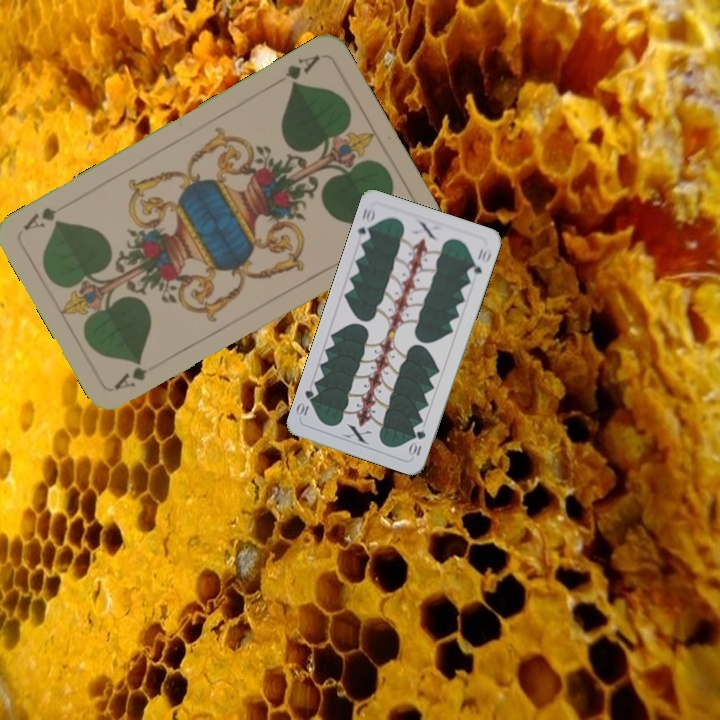G10: (353, 204, 378, 245), (406, 426, 428, 460)
GA: (281, 50, 323, 89), (110, 362, 150, 393)
